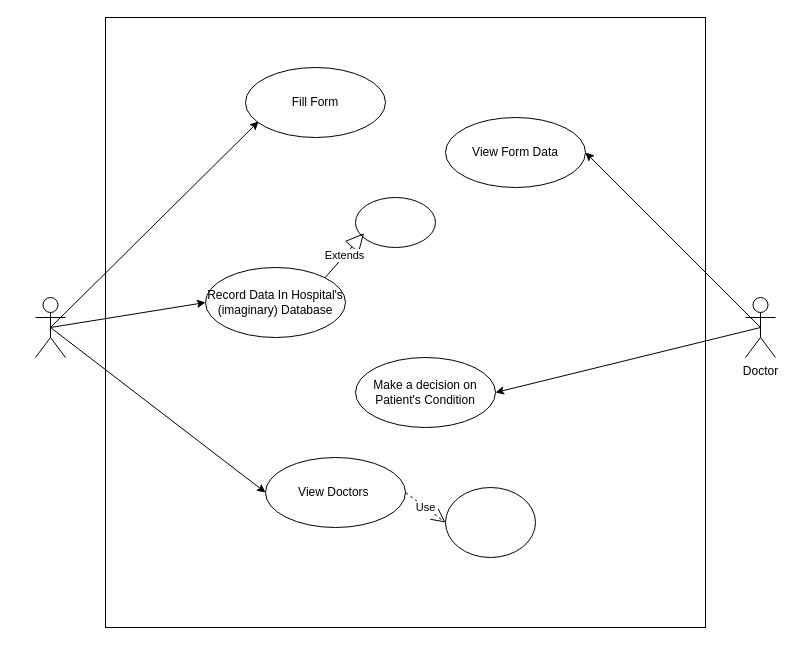
Image size: 795x645. Some labels were removed from this diagram. Each missing label, with the centre of its shape:
"Receptionist" goes at pixel 50 327.
"Record Data in CSV" goes at pixel 395 222.
"Request to particular Doctor" goes at pixel 490 522.
